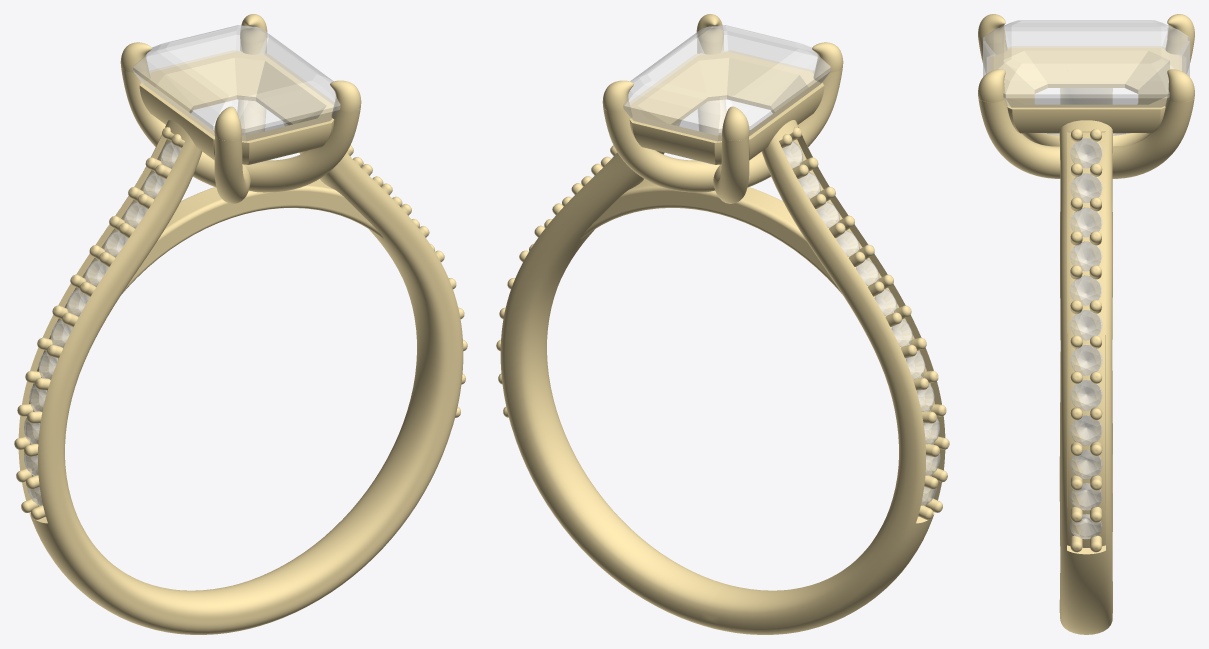
3 views of the same model, side by side, from view 1: azimuth 30°, elevation 25°; view 2: azimuth 150°, elevation 25°; view 3: azimuth 270°, elevation 25° (orthographic).
Parts seen in each view (by area): view 1: NNObj_25, NNObj_0, NNObj_26, NNObj_27, NNObj_28, NNObj_32, NNObj_31, NNObj_35, NNObj_29, NNObj_30, NNObj_33, NNObj_34; view 2: NNObj_25, NNObj_0, NNObj_26, NNObj_27, NNObj_35, NNObj_31, NNObj_32, NNObj_28, NNObj_34, NNObj_33, NNObj_30, NNObj_29; view 3: NNObj_25, NNObj_0, NNObj_26, NNObj_35, NNObj_28, NNObj_32, NNObj_31, NNObj_29, NNObj_34, NNObj_15, NNObj_16, NNObj_10 (+11 smaller).
Boxes of the visible parts, x1=… form: NNObj_25: x1=18, y1=93, x2=463, y2=634; NNObj_0: x1=133, y1=25, x2=340, y2=164; NNObj_26: x1=139, y1=50, x2=334, y2=164; NNObj_27: x1=122, y1=179, x2=383, y2=293; NNObj_28: x1=244, y1=106, x2=360, y2=192; NNObj_32: x1=121, y1=67, x2=216, y2=187; NNObj_31: x1=214, y1=137, x2=250, y2=203; NNObj_35: x1=237, y1=39, x2=266, y2=135; NNObj_29: x1=330, y1=80, x2=361, y2=112; NNObj_30: x1=214, y1=106, x2=241, y2=140; NNObj_33: x1=120, y1=42, x2=151, y2=72; NNObj_34: x1=240, y1=14, x2=267, y2=43; NNObj_25: x1=500, y1=93, x2=945, y2=634; NNObj_0: x1=623, y1=25, x2=830, y2=164; NNObj_26: x1=629, y1=50, x2=824, y2=164; NNObj_27: x1=580, y1=179, x2=841, y2=293; NNObj_35: x1=603, y1=106, x2=719, y2=192; NNObj_31: x1=747, y1=67, x2=842, y2=187; NNObj_32: x1=713, y1=137, x2=749, y2=203; NNObj_28: x1=697, y1=39, x2=726, y2=135; NNObj_34: x1=602, y1=80, x2=633, y2=112; NNObj_33: x1=722, y1=106, x2=749, y2=140; NNObj_30: x1=812, y1=42, x2=843, y2=72; NNObj_29: x1=696, y1=14, x2=723, y2=43; NNObj_25: x1=1059, y1=70, x2=1112, y2=634; NNObj_0: x1=983, y1=20, x2=1189, y2=135; NNObj_26: x1=987, y1=46, x2=1185, y2=133; NNObj_35: x1=1112, y1=98, x2=1194, y2=178; NNObj_28: x1=978, y1=98, x2=1060, y2=178; NNObj_32: x1=1113, y1=40, x2=1194, y2=146; NNObj_31: x1=978, y1=40, x2=1059, y2=146; NNObj_29: x1=978, y1=69, x2=1005, y2=102; NNObj_34: x1=1167, y1=69, x2=1194, y2=102; NNObj_15: x1=1070, y1=380, x2=1102, y2=410; NNObj_16: x1=1070, y1=344, x2=1102, y2=375; NNObj_10: x1=1070, y1=415, x2=1102, y2=445.
Bounding box in the file's own units: 0.0211 × 0.0258 × 0.0089.
